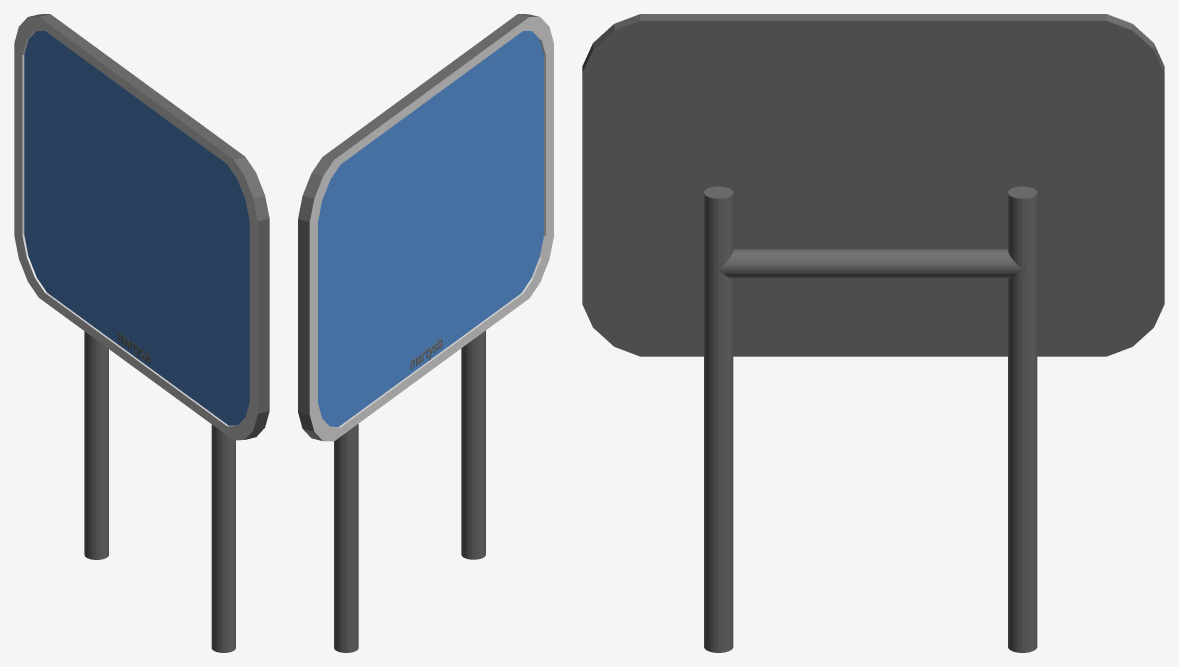
The model's file is sign.fbx.
The picture shows the model from 3 angles, left to right: view 1: azimuth 30°, elevation 25°; view 2: azimuth 150°, elevation 25°; view 3: azimuth 270°, elevation 25°; orthographic projection. The views are drawn at different scales.
Parts seen in each view (by area): view 1: znak; view 2: znak; view 3: znak.
Boxes of the visible parts, x1,y1,x2,y2 form: znak: (14,14,269,652); znak: (298,14,553,652); znak: (582,14,1164,652).
Bounding box in the file's own units: 21.42 × 315 × 269.
